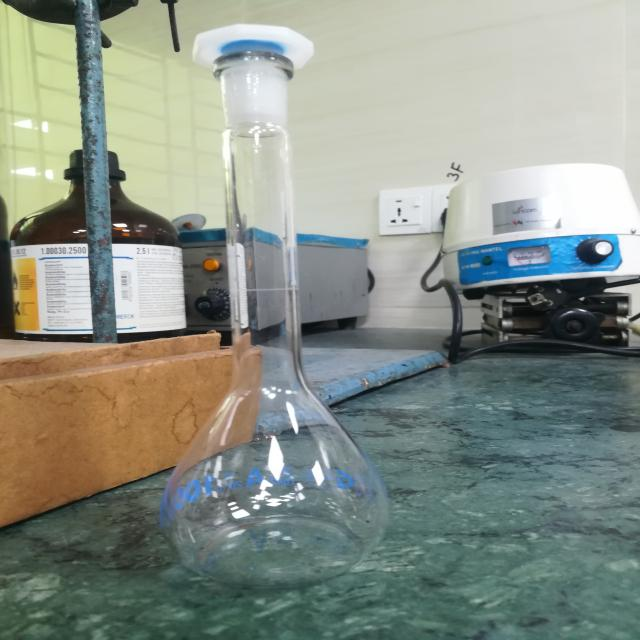Volumetric_Flask: (134, 4, 423, 624)
